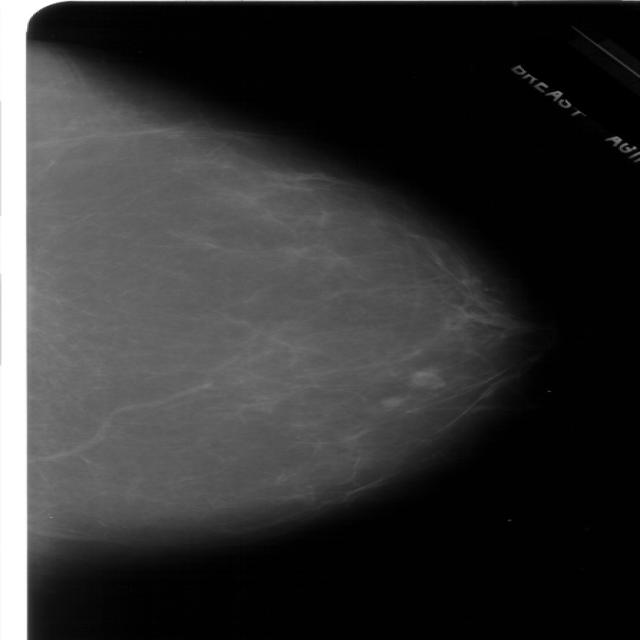tumour: (406, 370, 442, 390)
